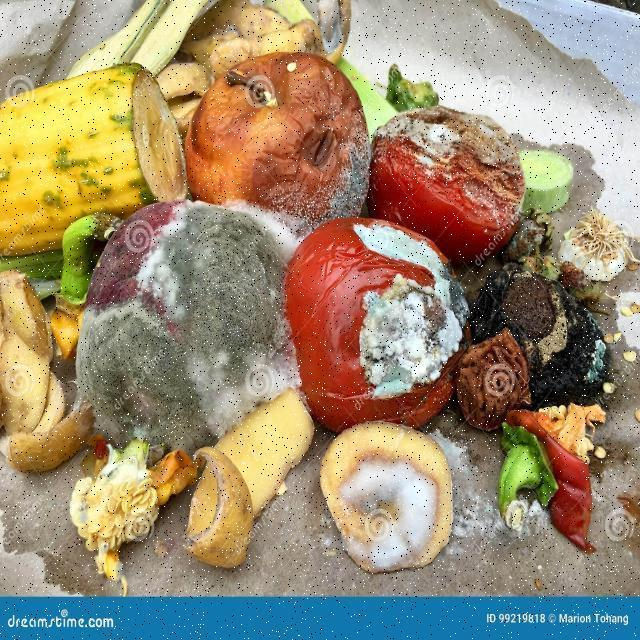Garbage: (0, 0, 632, 592)
